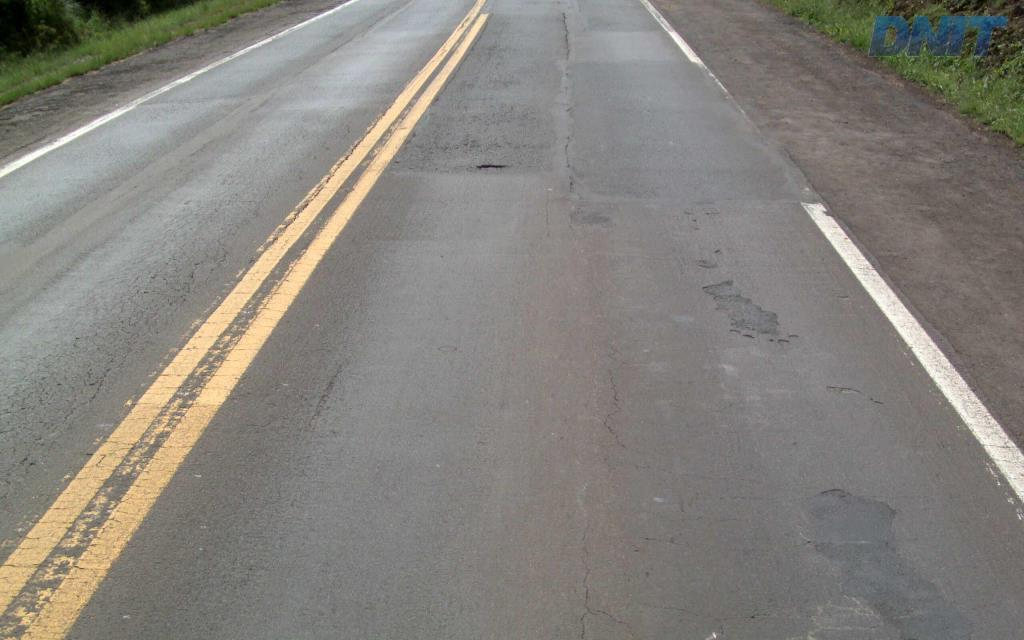pothole: (472, 160, 515, 172)
